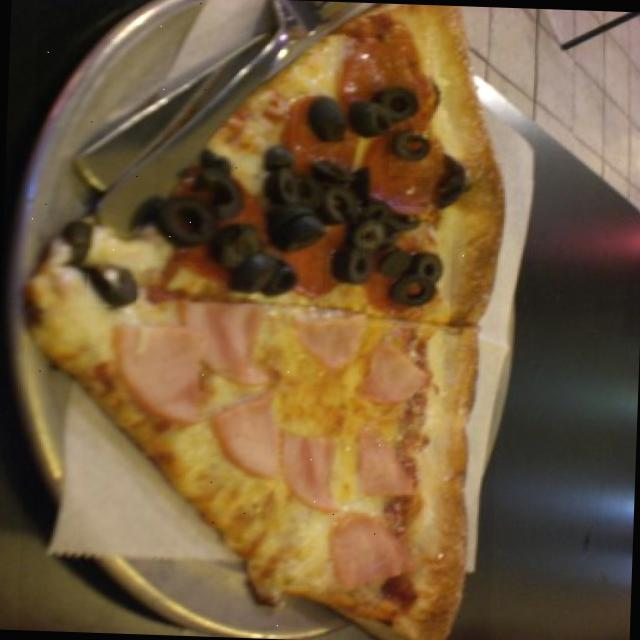Olive: (322, 202, 452, 328), (184, 212, 304, 302), (265, 150, 365, 256), (152, 156, 242, 262), (342, 89, 427, 140), (428, 139, 469, 216), (388, 126, 435, 176), (85, 260, 136, 306), (307, 96, 346, 144)
pepperoni: (361, 136, 454, 224), (337, 36, 430, 122), (285, 93, 361, 181), (286, 229, 354, 297)
pizza: (28, 2, 504, 640)
